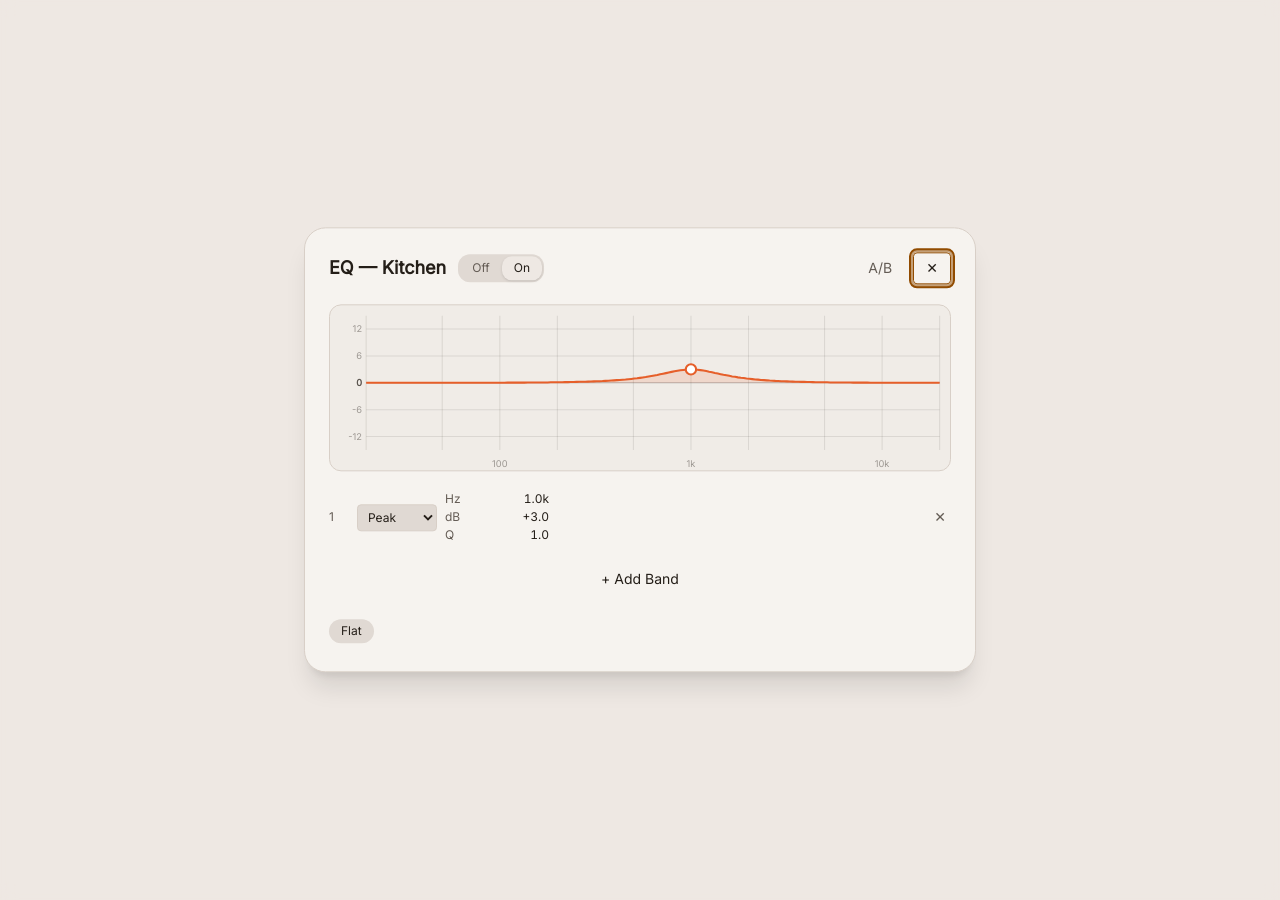
Test case: EqOverlay, EQ tab › keeps the editor and A/B usable through a bypass and ends with the EQ on
Later steps or results of the test are not shown.
Click the button "A/B" at (880, 268), box [855,252,905,284]
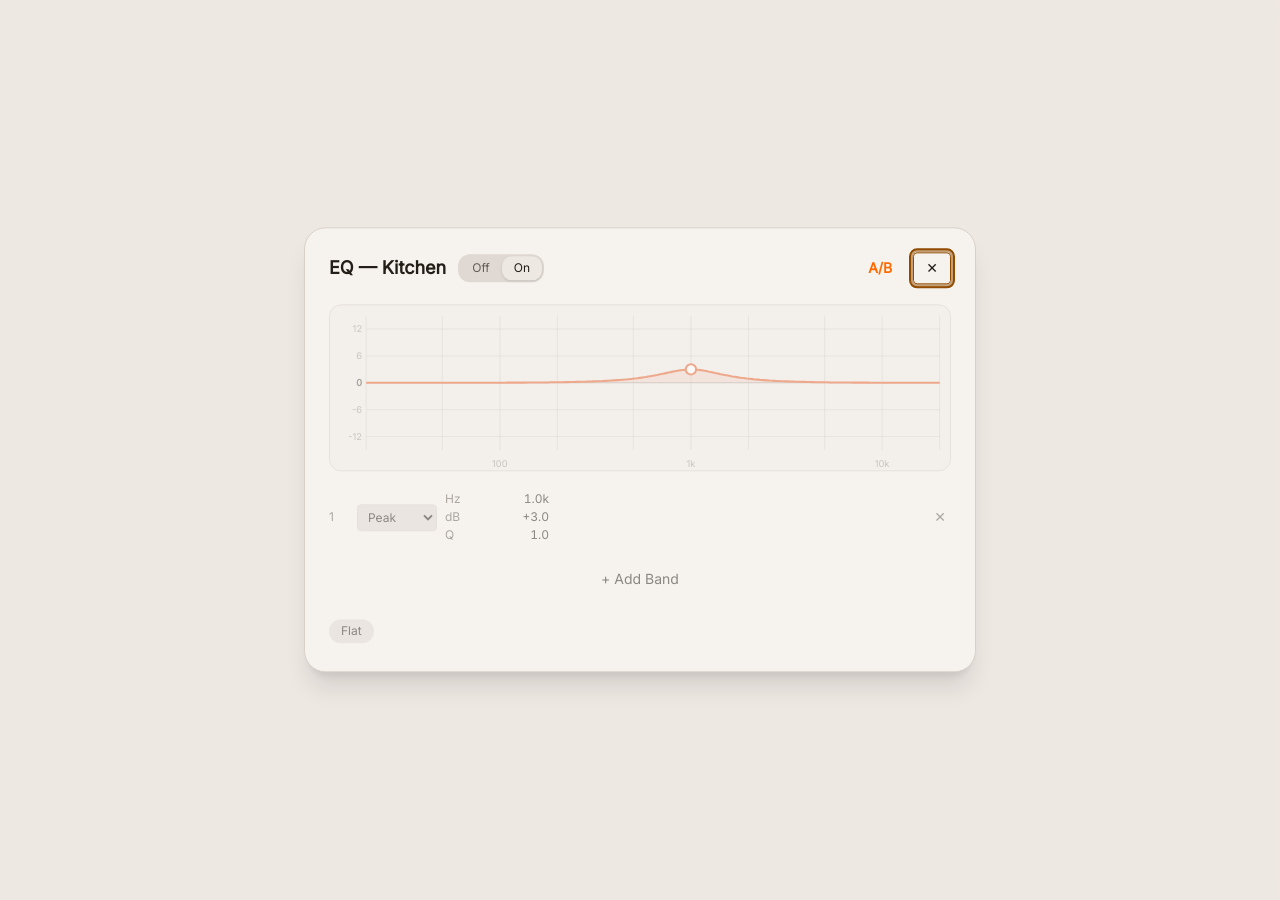
Expected: the button "A/B" is pressed, [855,252,905,284]
